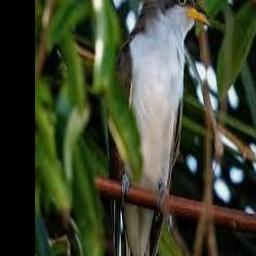Cuckoo: (109, 0, 210, 256)
